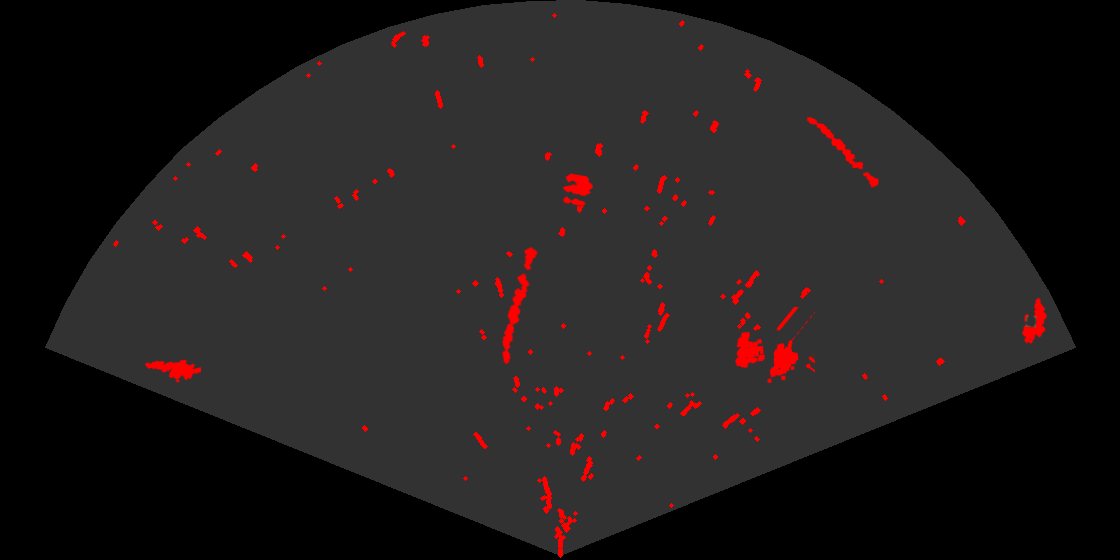AUV: (1021, 296, 1048, 345)
ball: (561, 172, 595, 207)
cage: (734, 307, 815, 385)
chain: (805, 115, 880, 189), (500, 244, 539, 366)
frogman: (143, 358, 201, 385)
